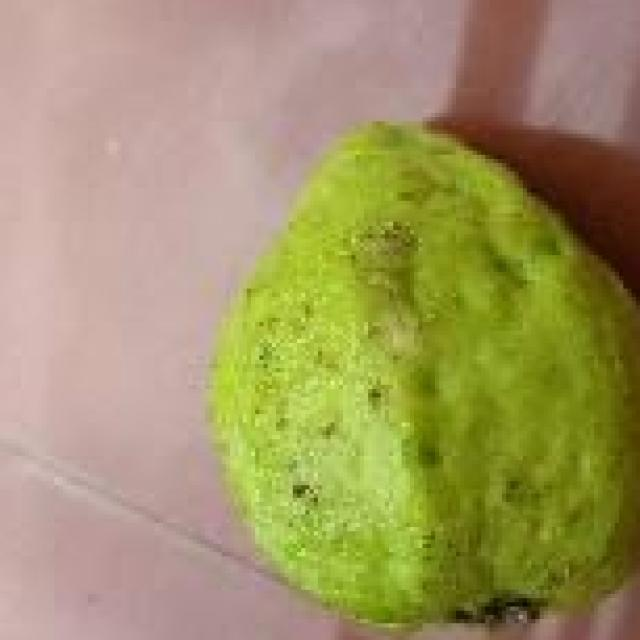Good_Guava 5-7 days: (211, 121, 640, 624)
